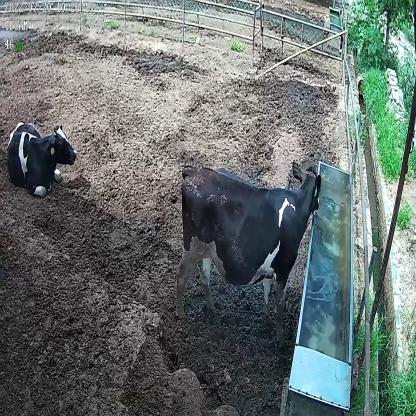cow: (171, 160, 324, 332), (7, 112, 78, 198)
